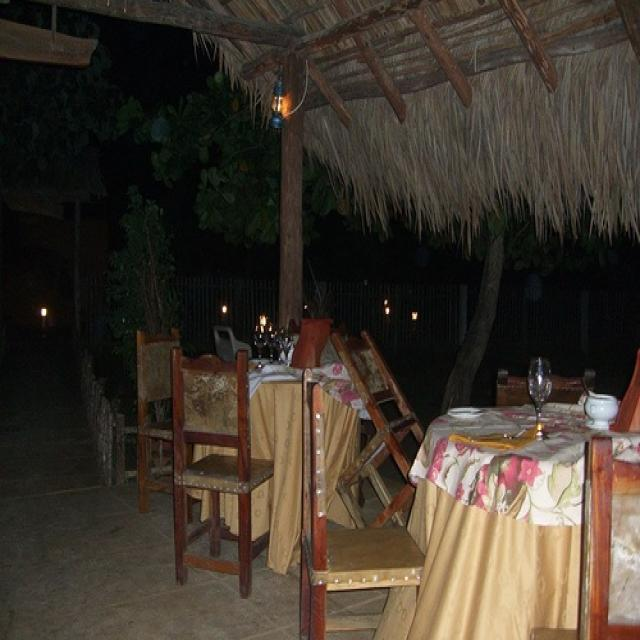chair: (301, 367, 426, 638), (171, 345, 274, 597), (530, 434, 639, 638), (330, 328, 426, 527), (134, 326, 180, 517), (497, 367, 598, 411)
